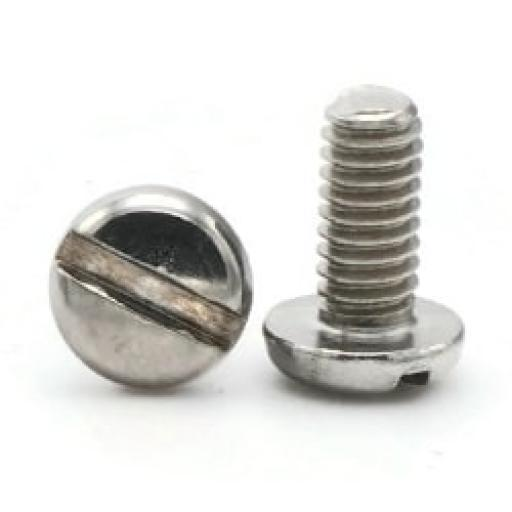Slotted: (48, 184, 251, 386)
